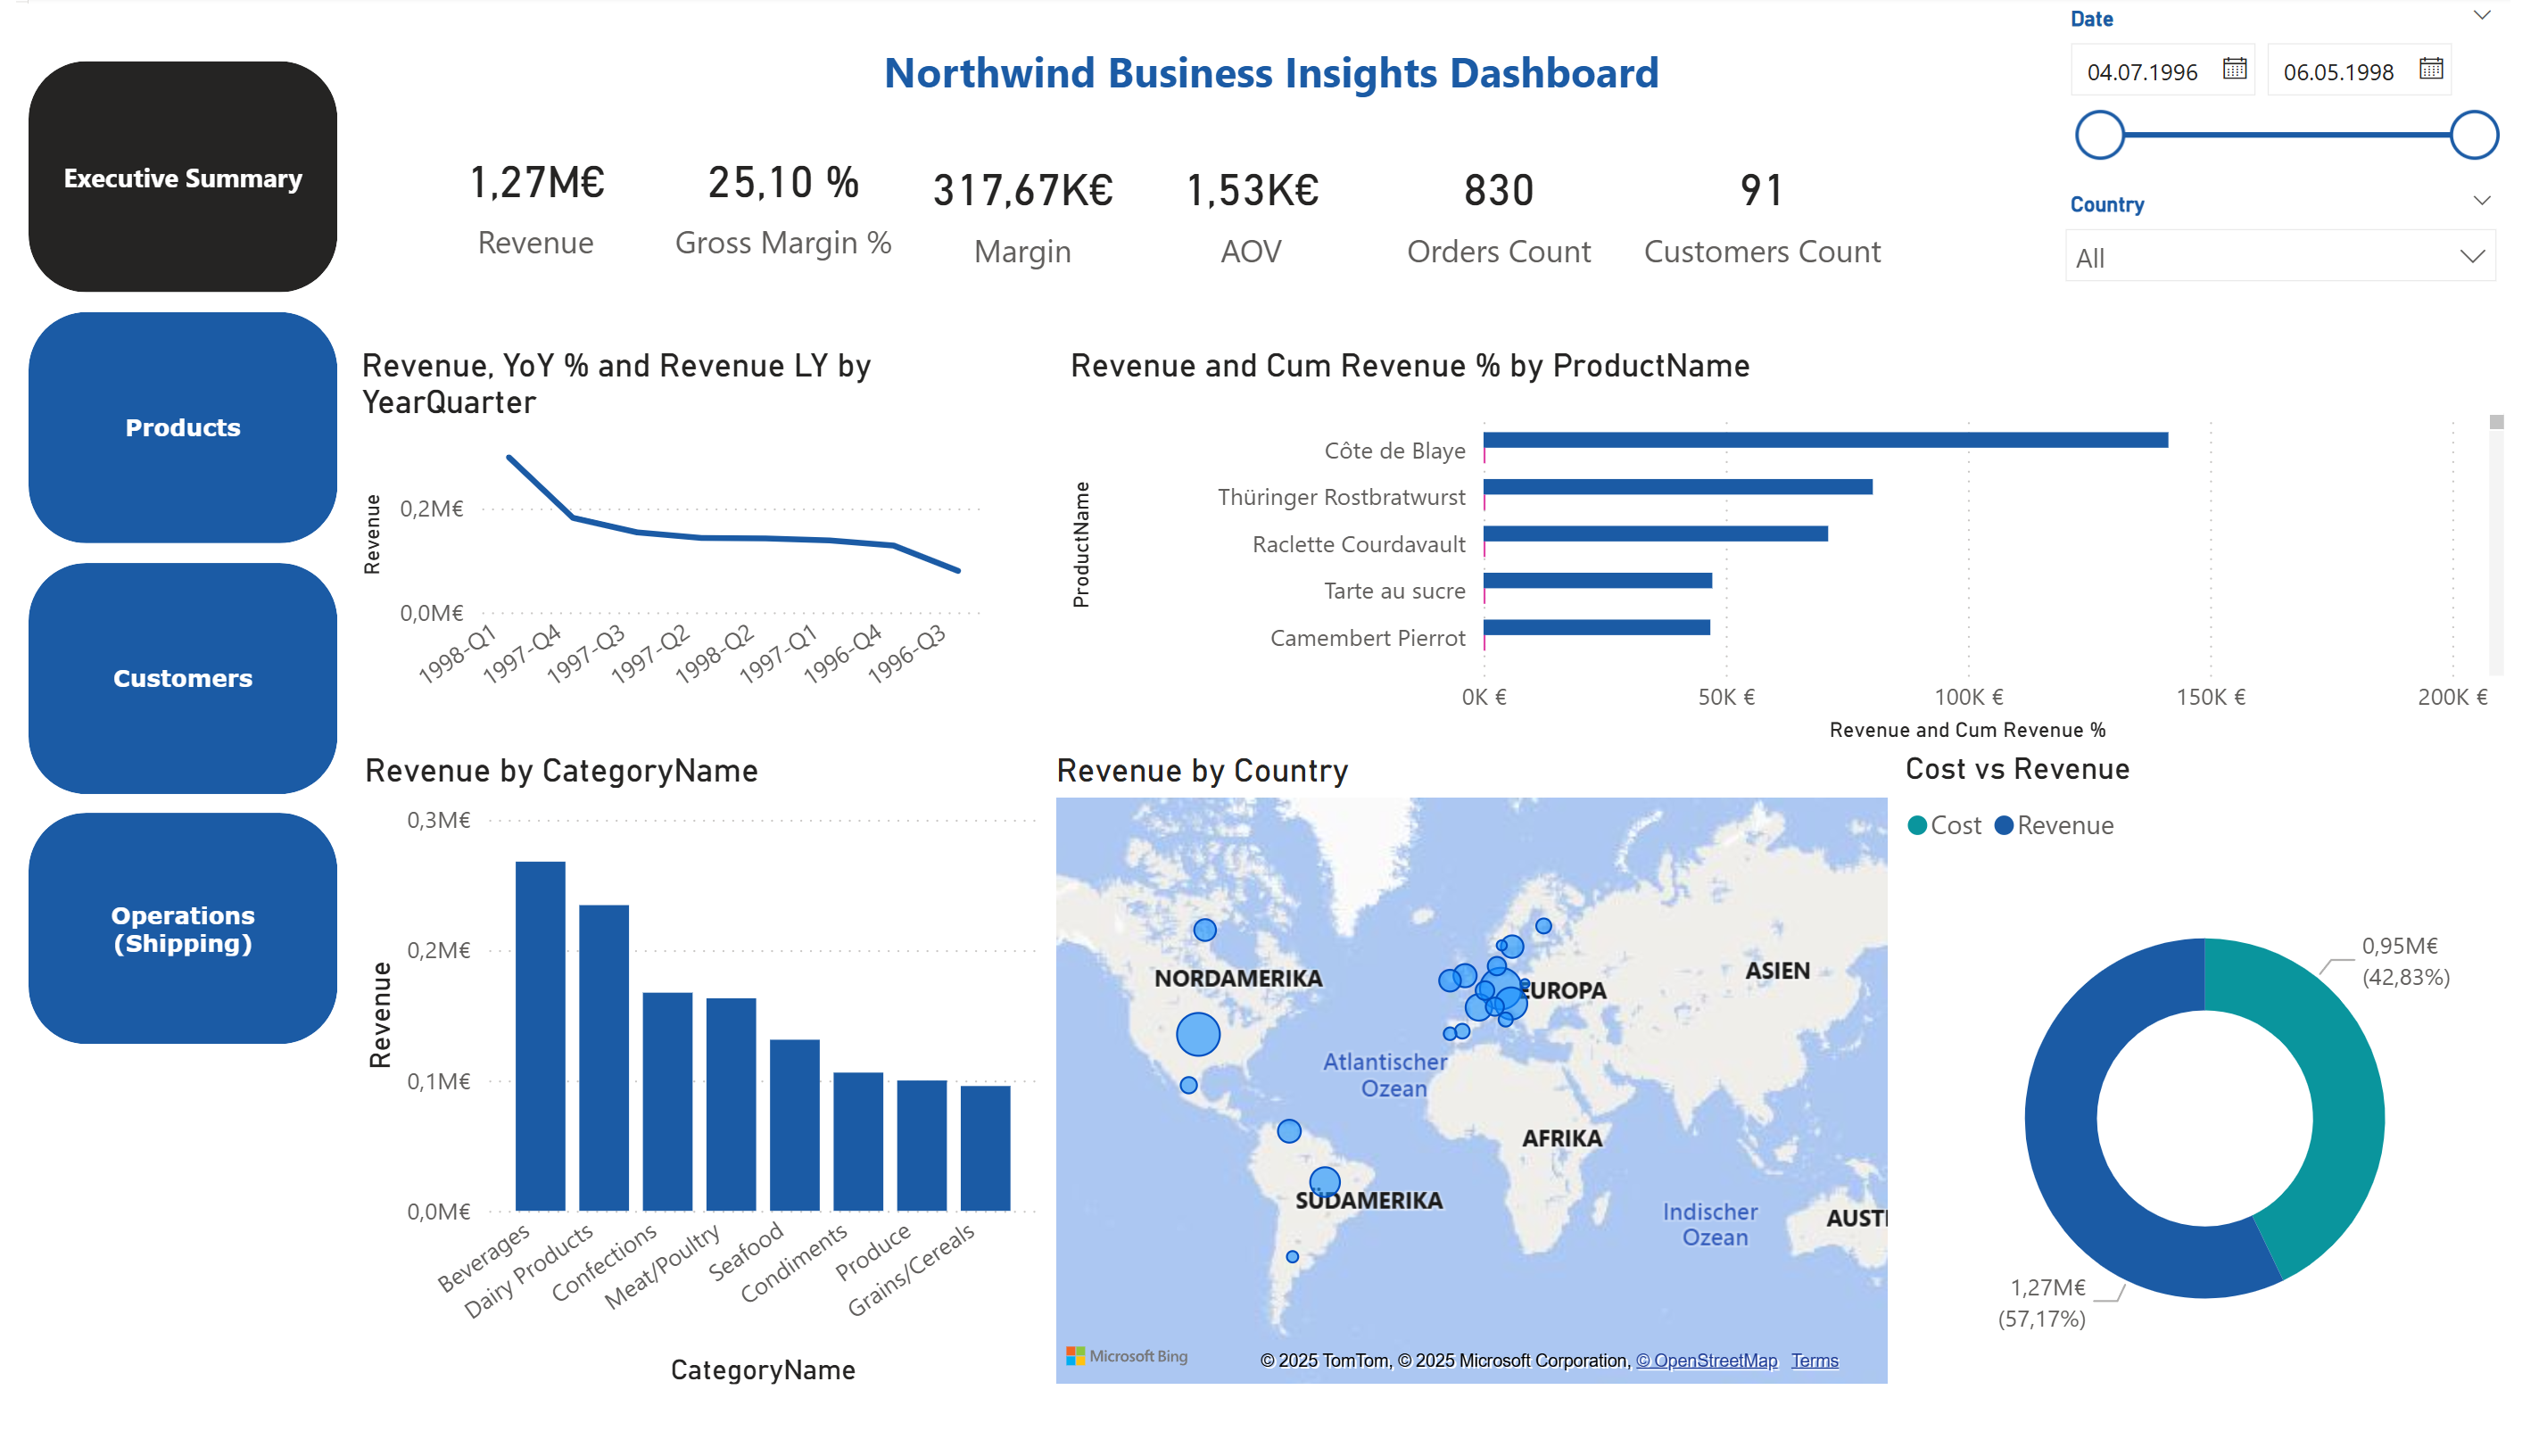

The dashboard page shown, as its layout file describes it:
{"tool":"powerbi","page":{"name":"Executive Summary","canvas":[1280,720],"ordinal":0},"visuals":[{"type":"card","fields":{"Values":["Order Details.Revenue"]},"box":[190.5,63.2,141,83.7],"z":0},{"type":"pageNavigator","box":[0,33.7,159.9,506.2],"z":1000},{"type":"textbox","box":[405,19.5,470,47.4],"z":2000},{"type":"card","fields":{"Values":["Products.Gross Margin %"]},"box":[321.3,63.2,134.1,83.7],"z":3000},{"type":"card","fields":{"Values":["Order Details.AOV"]},"box":[567.3,73.5,123.9,73.5],"z":4000},{"type":"card","fields":{"Values":["Orders.Orders Count"]},"box":[691.2,73.5,131.6,73.5],"z":5000},{"type":"card","fields":{"Values":["Customers.Customers Count"]},"box":[822.8,73.5,139.3,73.5],"z":6000},{"type":"lineChart","fields":{"Category":["Date.YearQuarter"],"Y":["Order Details.Revenue"]},"box":[166.3,181,330.1,190.5],"z":7000},{"type":"slicer","fields":{"Values":["Date.Date"]},"box":[1037.7,0,242.2,93.9],"z":8000},{"type":"clusteredColumnChart","fields":{"Category":["Categories.CategoryName"],"Y":["Order Details.Revenue"]},"box":[168.1,388.7,356,331],"z":9000},{"type":"clusteredBarChart","fields":{"Category":["Products.ProductName"],"Y":["Order Details.Revenue","Products.Cum Revenue %"]},"box":[530.9,181,748.1,207.7],"z":10000},{"type":"slicer","fields":{"Values":["Customers.Country"]},"box":[1037.7,95.7,242.2,56],"z":11000},{"type":"donutChart","title":"Cost vs Revenue","fields":{"Y":["Products.Cost","Order Details.Revenue"]},"box":[961,389,318,331],"z":12000},{"type":"map","fields":{"Category":["Customers.Country"],"Size":["Order Details.Revenue"]},"box":[524,388.7,437.8,331],"z":13000},{"type":"card","fields":{"Values":["Products.Margin"]},"box":[455.4,73.5,111.9,73.5],"z":14000}]}

Visuals, with their boxes in screenshot pixels (x1, y1, x2, y2), scaled from the page's 1280x720 canvas onto the 2547x1456 screenshot:
card - Order Details.Revenue: [left=379, top=128, right=659, bottom=297]
pageNavigator: [left=0, top=68, right=318, bottom=1092]
textbox: [left=806, top=39, right=1741, bottom=136]
card - Products.Gross Margin %: [left=640, top=128, right=906, bottom=297]
card - Order Details.AOV: [left=1129, top=149, right=1376, bottom=297]
card - Orders.Orders Count: [left=1376, top=149, right=1637, bottom=297]
card - Customers.Customers Count: [left=1637, top=149, right=1914, bottom=297]
lineChart - Date.YearQuarter x Order Details.Revenue: [left=331, top=366, right=988, bottom=751]
slicer - Date.Date: [left=2065, top=0, right=2546, bottom=190]
clusteredColumnChart - Categories.CategoryName x Order Details.Revenue: [left=335, top=786, right=1043, bottom=1455]
clusteredBarChart - Products.ProductName x Order Details.Revenue: [left=1056, top=366, right=2545, bottom=786]
slicer - Customers.Country: [left=2065, top=194, right=2546, bottom=307]
"Cost vs Revenue" donutChart: [left=1912, top=787, right=2545, bottom=1455]
map - Customers.Country x Order Details.Revenue: [left=1043, top=786, right=1914, bottom=1455]
card - Products.Margin: [left=906, top=149, right=1129, bottom=297]
